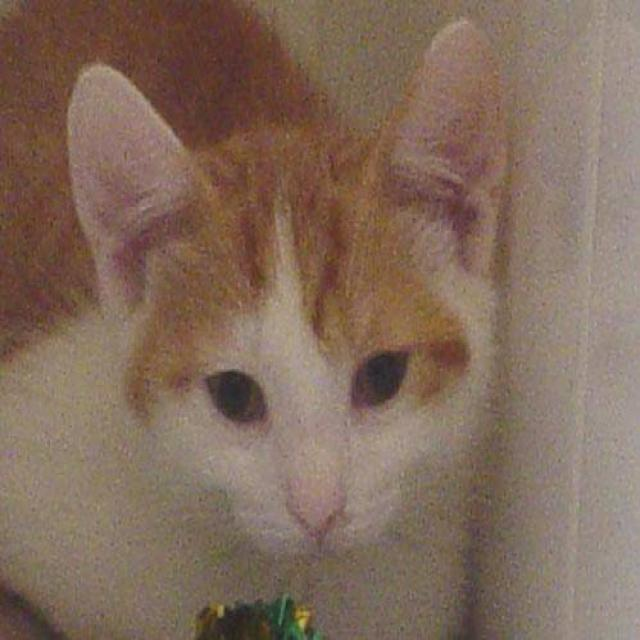cat: (0, 9, 524, 640)
